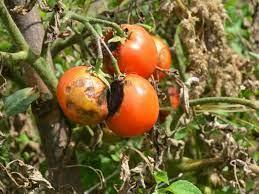tomato early blight: (106, 74, 161, 139), (57, 67, 111, 126)
